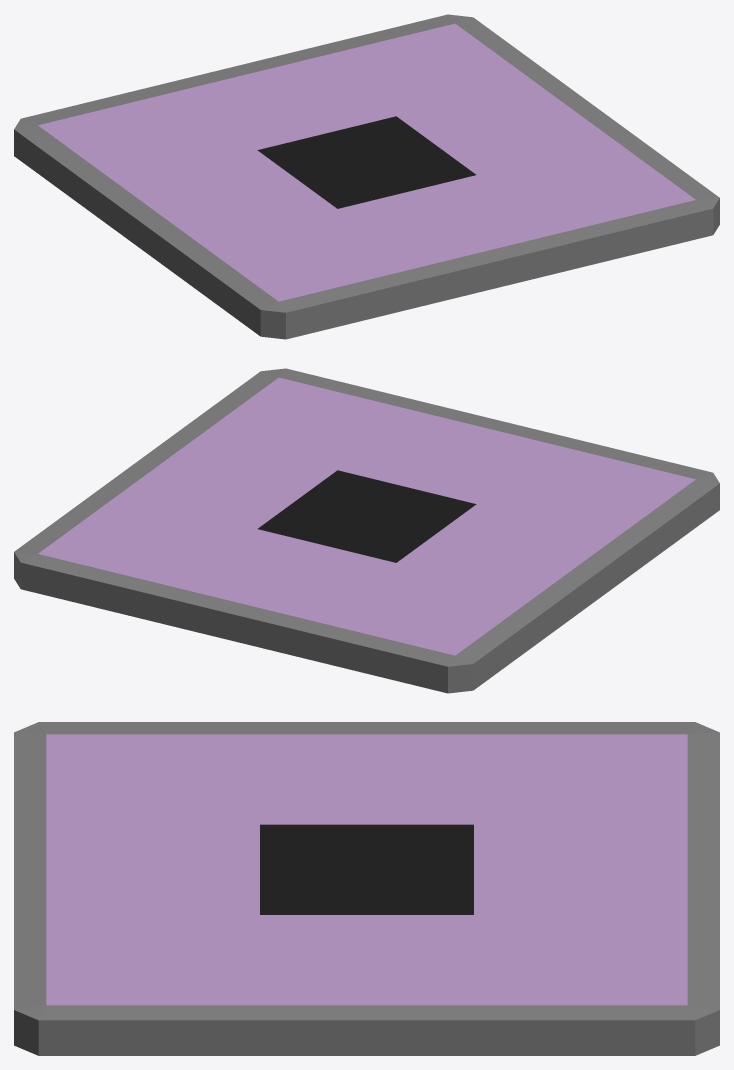
File: streetpoint.fbx
3 views of the same model, one above another, from view 1: azimuth 30°, elevation 25°; view 2: azimuth 150°, elevation 25°; view 3: azimuth 270°, elevation 25° (orthographic). The views are drawn at different scales.
Visible parts, largest first — view 1: StreetPoint; view 2: StreetPoint; view 3: StreetPoint.
Part boxes in pixels (x1,y1,x2,y2): StreetPoint: (14, 14, 719, 339); StreetPoint: (14, 368, 719, 693); StreetPoint: (14, 722, 719, 1055).
Size of the model in its own units: 100 by 5.98 by 100.
